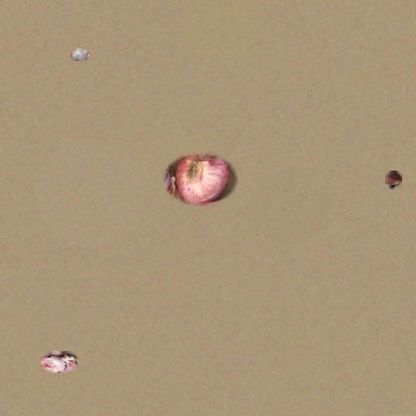healthy: (162, 152, 238, 206)
rotten: (71, 48, 89, 61)
sprouted: (39, 351, 80, 373), (385, 171, 402, 189)
